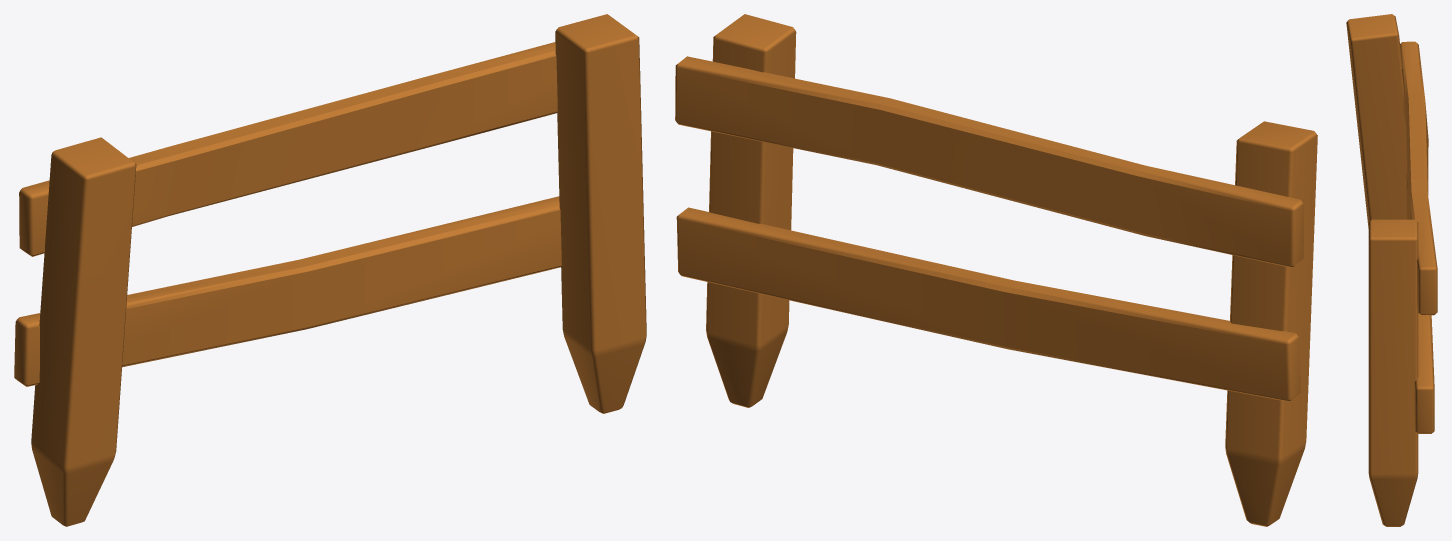
The model's file is fence_01.fbx.
The picture shows the model from 3 angles, left to right: view 1: azimuth 30°, elevation 25°; view 2: azimuth 150°, elevation 25°; view 3: azimuth 270°, elevation 25°; orthographic projection. The views are drawn at different scales.
Parts seen in each view (by area): view 1: fence_01; view 2: fence_01; view 3: fence_01.
Part boxes in pixels (left/top/right/bottom): fence_01: left=14, top=14, right=646, bottom=526; fence_01: left=675, top=14, right=1317, bottom=526; fence_01: left=1346, top=14, right=1437, bottom=526.
Bounding box in the file's own units: 161 × 97.62 × 26.69.
